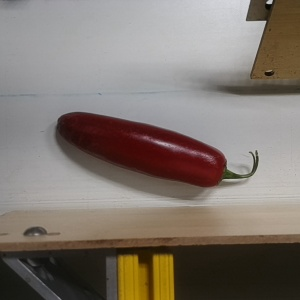Cut Point: (204, 145, 235, 189)
